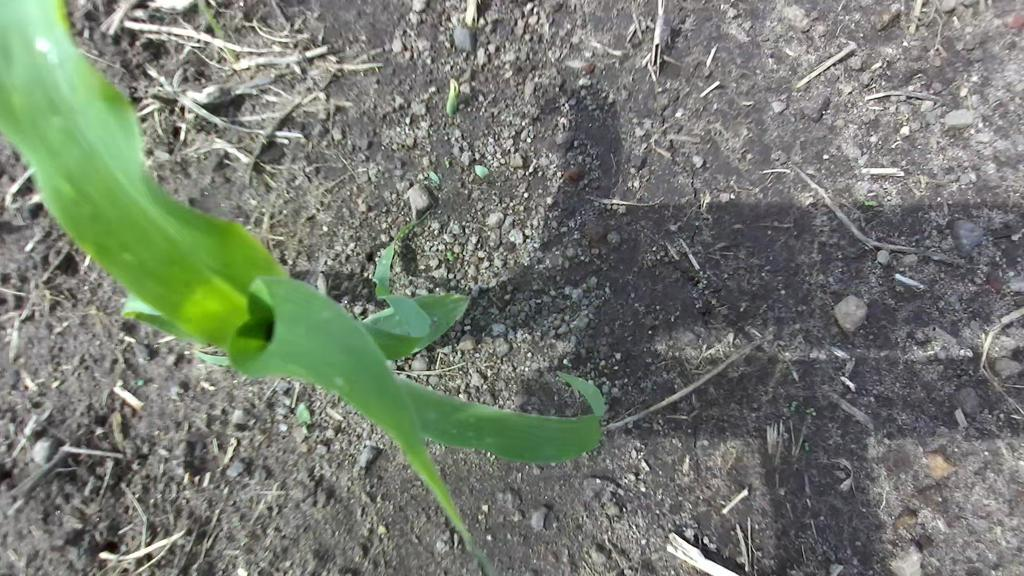BroWeed: (294, 399, 314, 436), (468, 160, 491, 181), (425, 169, 442, 185), (442, 152, 458, 168), (476, 512, 488, 531), (444, 248, 456, 263), (415, 170, 430, 182), (375, 523, 388, 535), (863, 200, 881, 208), (132, 377, 146, 386)
